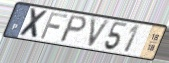1: (122, 24, 141, 54)
5: (102, 20, 129, 52)
F: (39, 11, 70, 41)
P: (57, 14, 89, 44)
V: (85, 16, 113, 50)
X: (17, 7, 50, 40)
